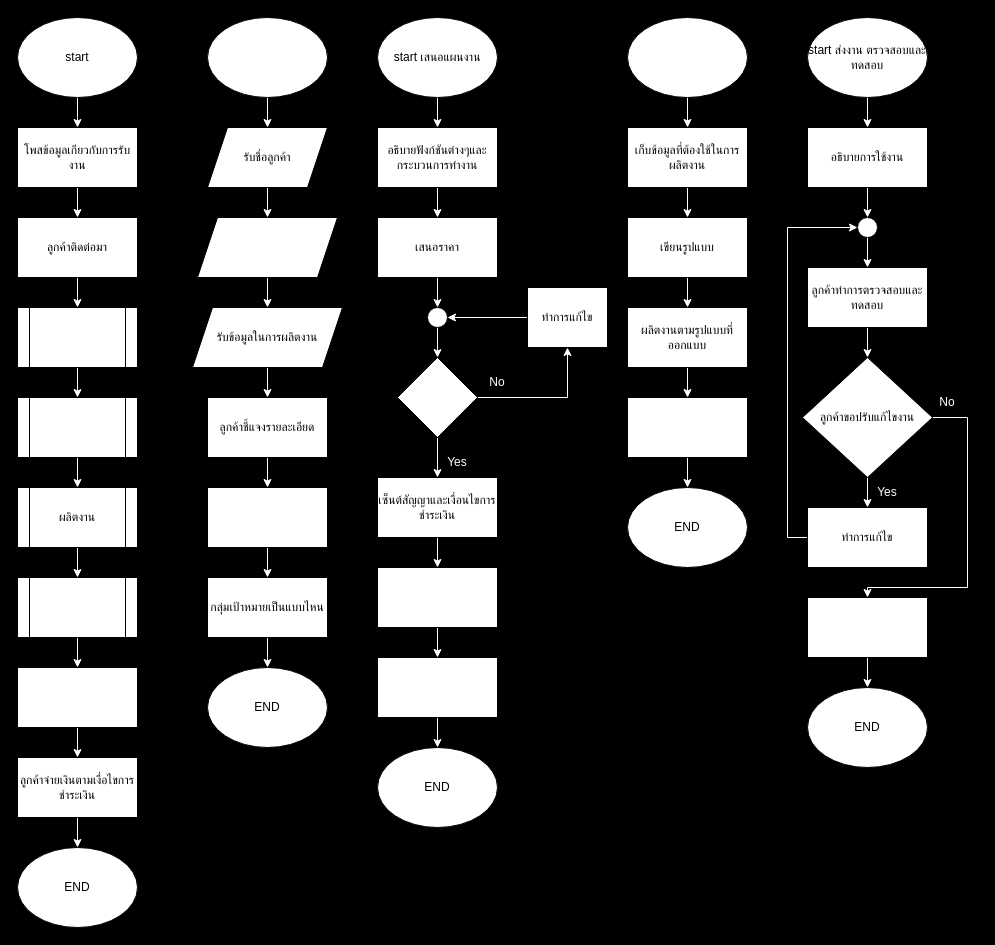
This 995x945 diagram has some shape labels left out. The shapes that lost their labels are listed below. From the top down, each one's centre as x and y in pixels, then its label:
At point (267, 57): "start การรับงาน".
At point (687, 57): "start ผลิตงาน".
At point (267, 247): "รับช่องทางการติดต่อ".
At point (77, 337): "การรับงาน".
At point (437, 397): "ลูกค้าอนุมัติ".
At point (77, 427): "เสนอแผนงาน".
At point (687, 427): "ตรวจสอบงาน".
At point (267, 517): "วิเคราะห์ความต้องการของลูกค้า".
At point (77, 607): "ส่งงาน ตรวจสอบ และทดสอบ".
At point (437, 597): "จ่ายเงินค่ามัดจำตามเงื่อนไขการชำระเงิน".
At point (867, 627): "เตรียมส่งมอบงานให้แก่ลูกค้า".
At point (77, 697): "ส่งมอบงานให้แก่ลูกค้า".
At point (437, 687): "เรื่มงาน".
